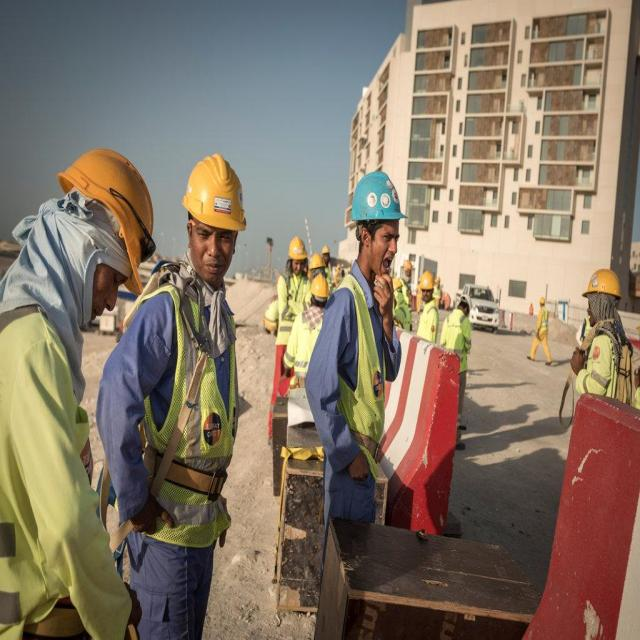Reflective-Jacket: (0, 261, 95, 640), (139, 272, 241, 543), (333, 269, 393, 465), (575, 320, 623, 401)
Safety-Helmet: (54, 139, 158, 285), (180, 150, 250, 235), (344, 166, 406, 228), (580, 263, 624, 301), (288, 234, 308, 262), (310, 272, 328, 301), (419, 269, 435, 290)
